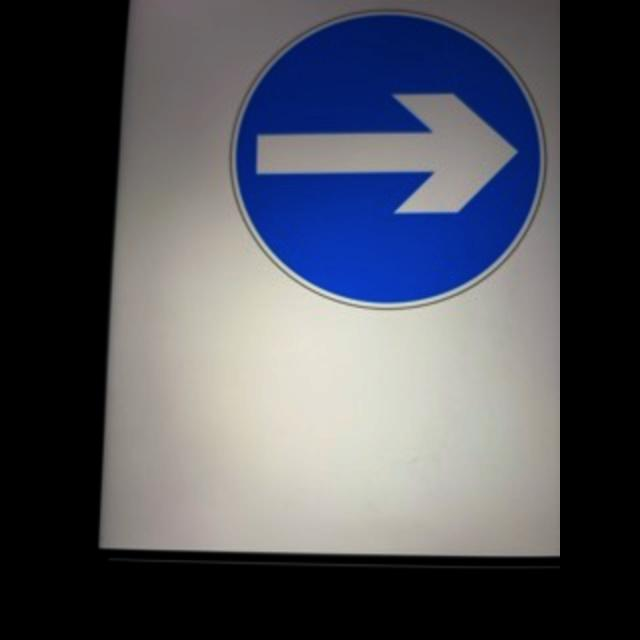TURN RIGHT: (229, 9, 549, 314)
